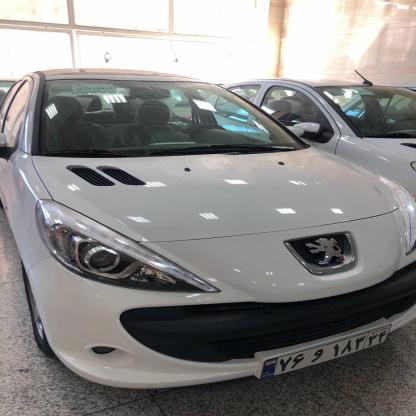Car: (0, 64, 416, 393), (228, 58, 416, 250)
